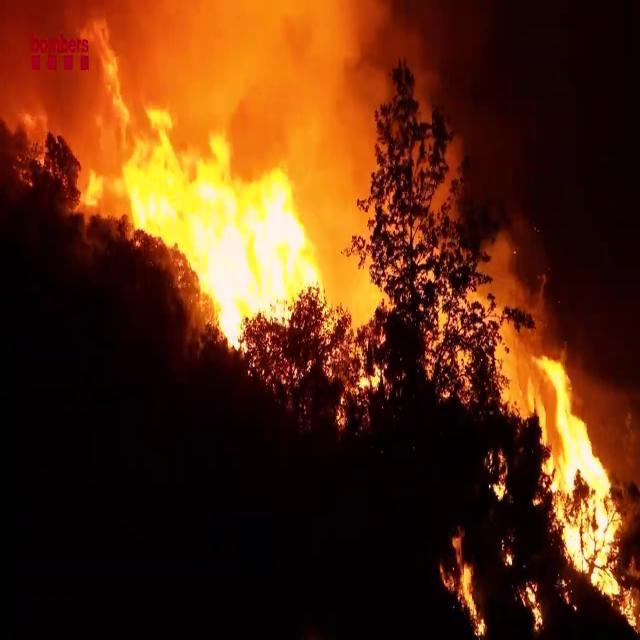Fire: (130, 106, 324, 350), (523, 327, 640, 623), (438, 526, 488, 636), (518, 574, 544, 633)
Smoke: (0, 0, 379, 216)
